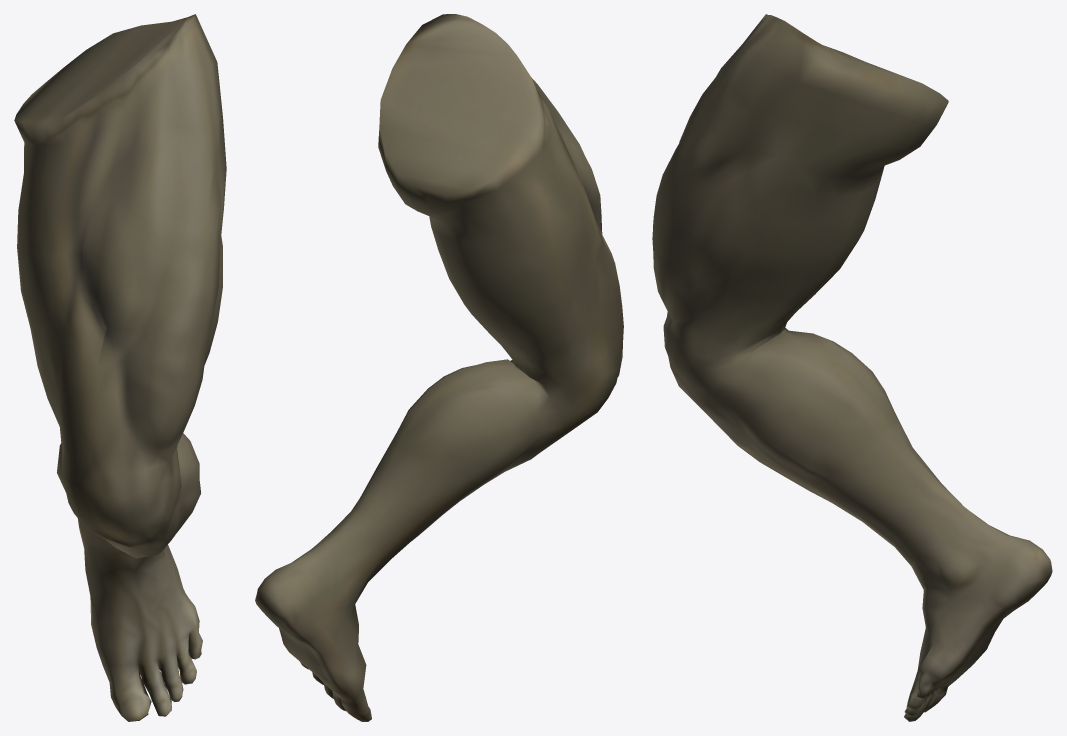
File: tripo-leg-six.glb
3 views of the same model, side by side, from view 1: azimuth 30°, elevation 25°; view 2: azimuth 150°, elevation 25°; view 3: azimuth 270°, elevation 25° (orthographic). The views are drawn at different scales.
Visible parts, largest first — view 1: tripo-leg-six; view 2: tripo-leg-six; view 3: tripo-leg-six.
Boxes of the visible parts, <box> form: tripo-leg-six: <box>14,14,226,721</box>; tripo-leg-six: <box>255,14,623,721</box>; tripo-leg-six: <box>652,14,1052,721</box>.
Bounding box in the file's own units: 0.2621 × 0.7524 × 0.3986.
1 material, 1 textured.
